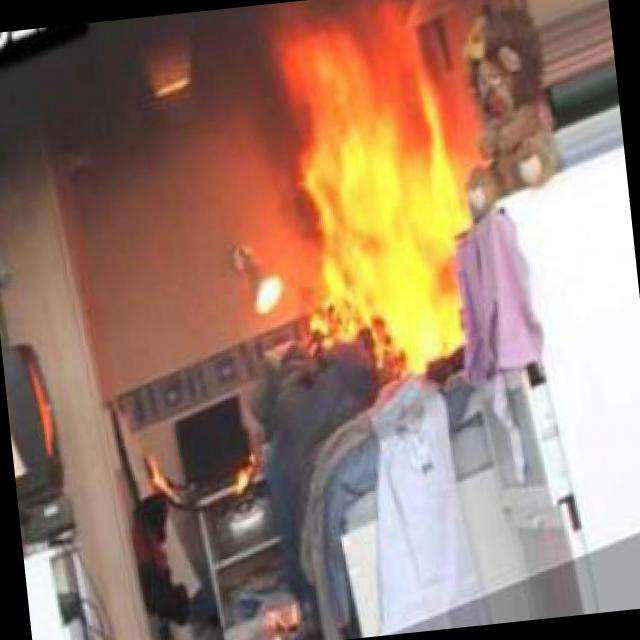fire: (285, 9, 497, 392)
